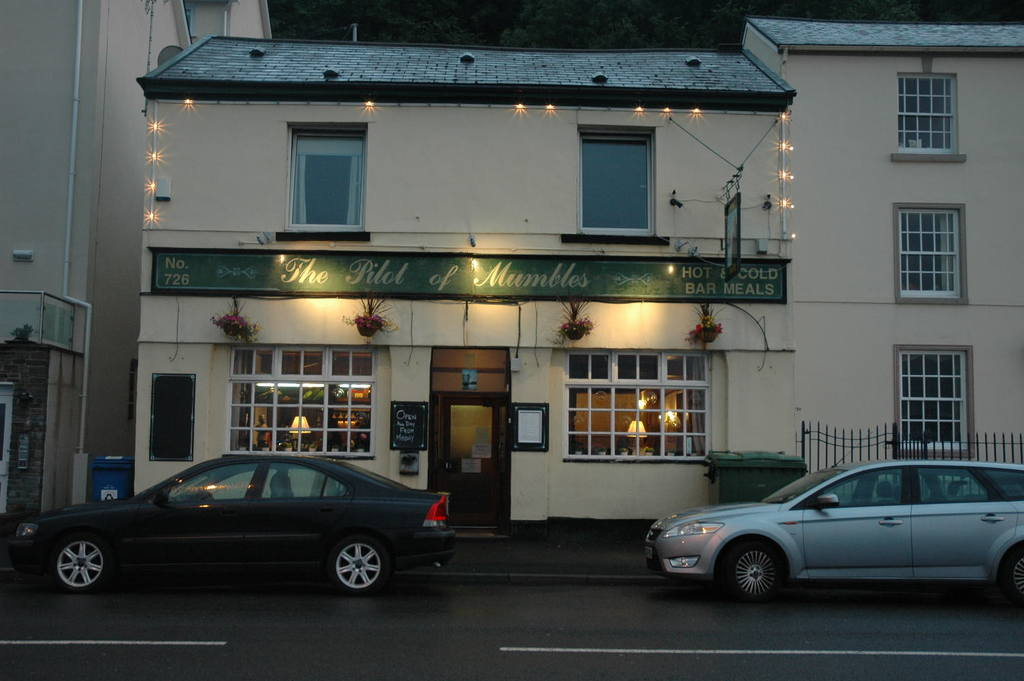Car: (0, 444, 458, 597), (635, 452, 1023, 611)
